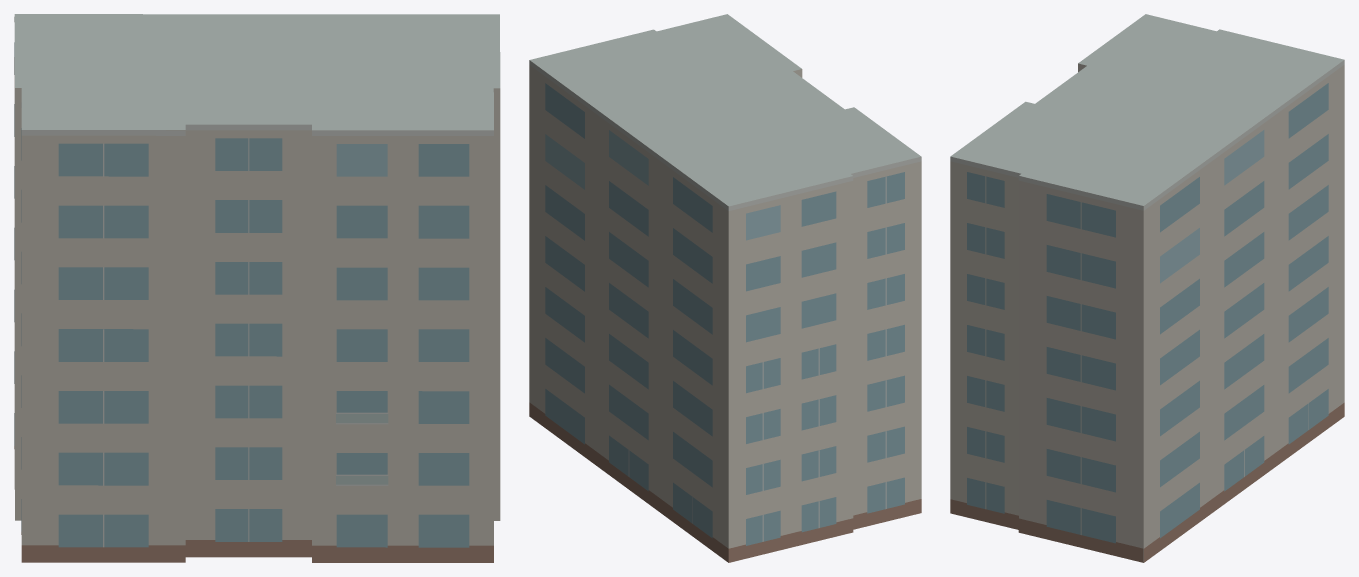
File: survey-upis-32998865.glb
The picture shows the model from 3 angles, left to right: view 1: azimuth 30°, elevation 25°; view 2: azimuth 150°, elevation 25°; view 3: azimuth 270°, elevation 25°; orthographic projection. The views are drawn at different scales.
Visible parts, largest first — view 1: survey-upis-32998865.tmp; view 2: survey-upis-32998865.tmp; view 3: survey-upis-32998865.tmp.
Boxes of the visible parts, x1,y1,x2,y2 form: survey-upis-32998865.tmp: [14, 14, 500, 562]; survey-upis-32998865.tmp: [529, 14, 921, 562]; survey-upis-32998865.tmp: [950, 14, 1344, 562].
Bounding box in the file's own units: 21.13 × 18.3 × 18.33.
